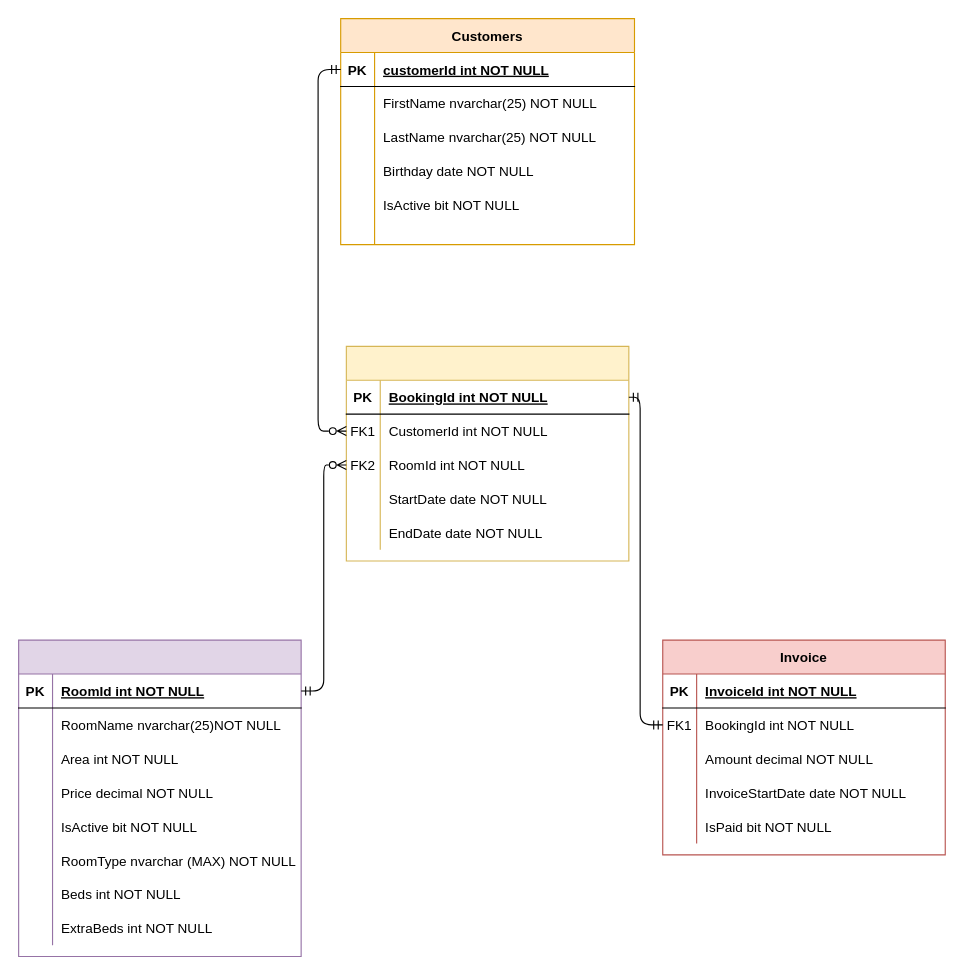
Image size: 964x975. Some labels were removed from this diagram. Here are the shapes that lost their labels. From the top down, the box of each, then its label:
(345, 345, 629, 561): Bookings
(18, 639, 301, 957): Rooms
